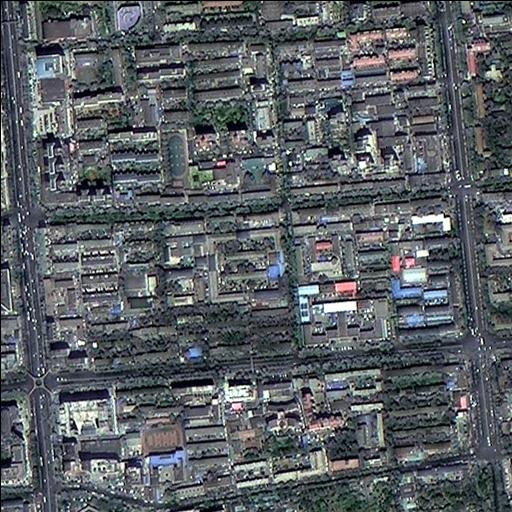school: (161, 127, 237, 189), (140, 416, 187, 486), (121, 266, 158, 311)
